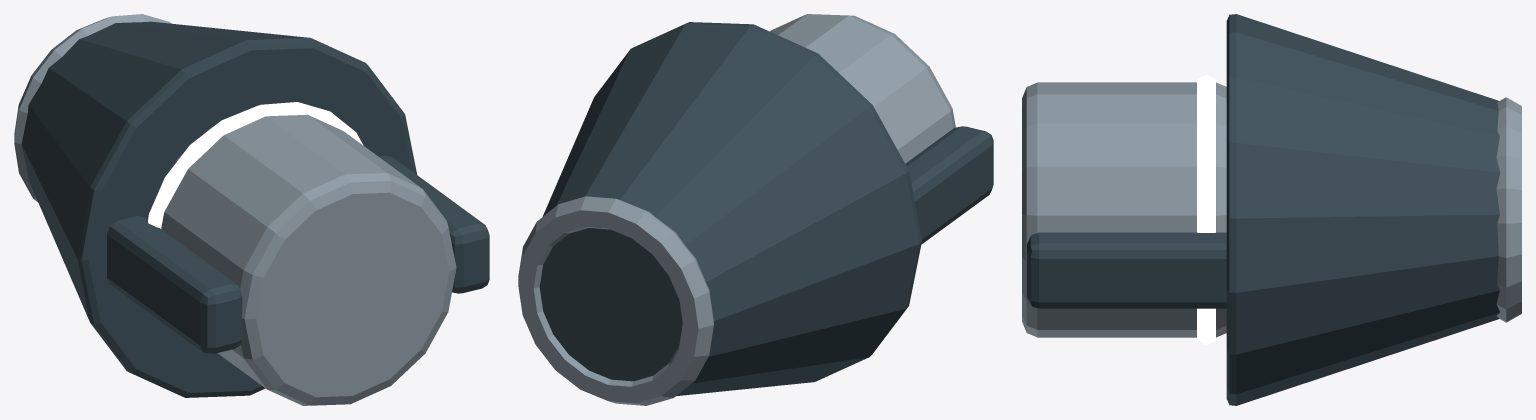
File: ThrusterMedium.fbx
3 views of the same model, side by side, from view 1: azimuth 30°, elevation 25°; view 2: azimuth 150°, elevation 25°; view 3: azimuth 270°, elevation 25° (orthographic).
Visible parts, largest first — view 1: ThrusterMedium_Body, ThrusterMedium_Nozzle, ThrusterMedium_Fin.001, ThrusterMedium_Fin, ThrusterMedium_GlowRing, ThrusterMedium_MountRing; view 2: ThrusterMedium_Nozzle, ThrusterMedium_MountRing, ThrusterMedium_Body, ThrusterMedium_Fin.001; view 3: ThrusterMedium_Nozzle, ThrusterMedium_Body, ThrusterMedium_Fin, ThrusterMedium_MountRing, ThrusterMedium_GlowRing.
Part boxes in pixels (bbox=[...]): ThrusterMedium_Body: bbox=[152, 114, 456, 405]; ThrusterMedium_Nozzle: bbox=[21, 21, 417, 397]; ThrusterMedium_Fin.001: bbox=[107, 216, 242, 353]; ThrusterMedium_Fin: bbox=[379, 155, 489, 293]; ThrusterMedium_GlowRing: bbox=[148, 102, 363, 228]; ThrusterMedium_MountRing: bbox=[14, 14, 171, 201]; ThrusterMedium_Nozzle: bbox=[539, 22, 921, 396]; ThrusterMedium_MountRing: bbox=[518, 196, 713, 405]; ThrusterMedium_Body: bbox=[770, 14, 955, 163]; ThrusterMedium_Fin.001: bbox=[905, 126, 993, 244]; ThrusterMedium_Nozzle: bbox=[1226, 14, 1500, 405]; ThrusterMedium_Body: bbox=[1022, 82, 1226, 337]; ThrusterMedium_Fin: bbox=[1027, 232, 1226, 308]; ThrusterMedium_MountRing: bbox=[1496, 97, 1521, 322]; ThrusterMedium_GlowRing: bbox=[1197, 74, 1215, 345].
Size of the model in its own units: 0.8262 by 0.8262 by 1.05.
